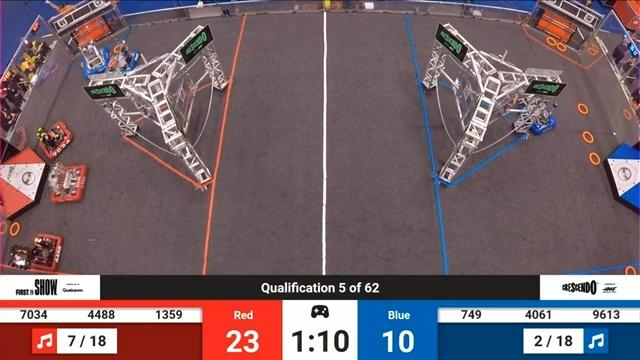robot: (8, 233, 65, 272), (47, 163, 89, 204), (37, 120, 74, 161), (517, 100, 557, 136), (107, 41, 140, 74), (81, 46, 110, 79), (24, 223, 25, 224)
